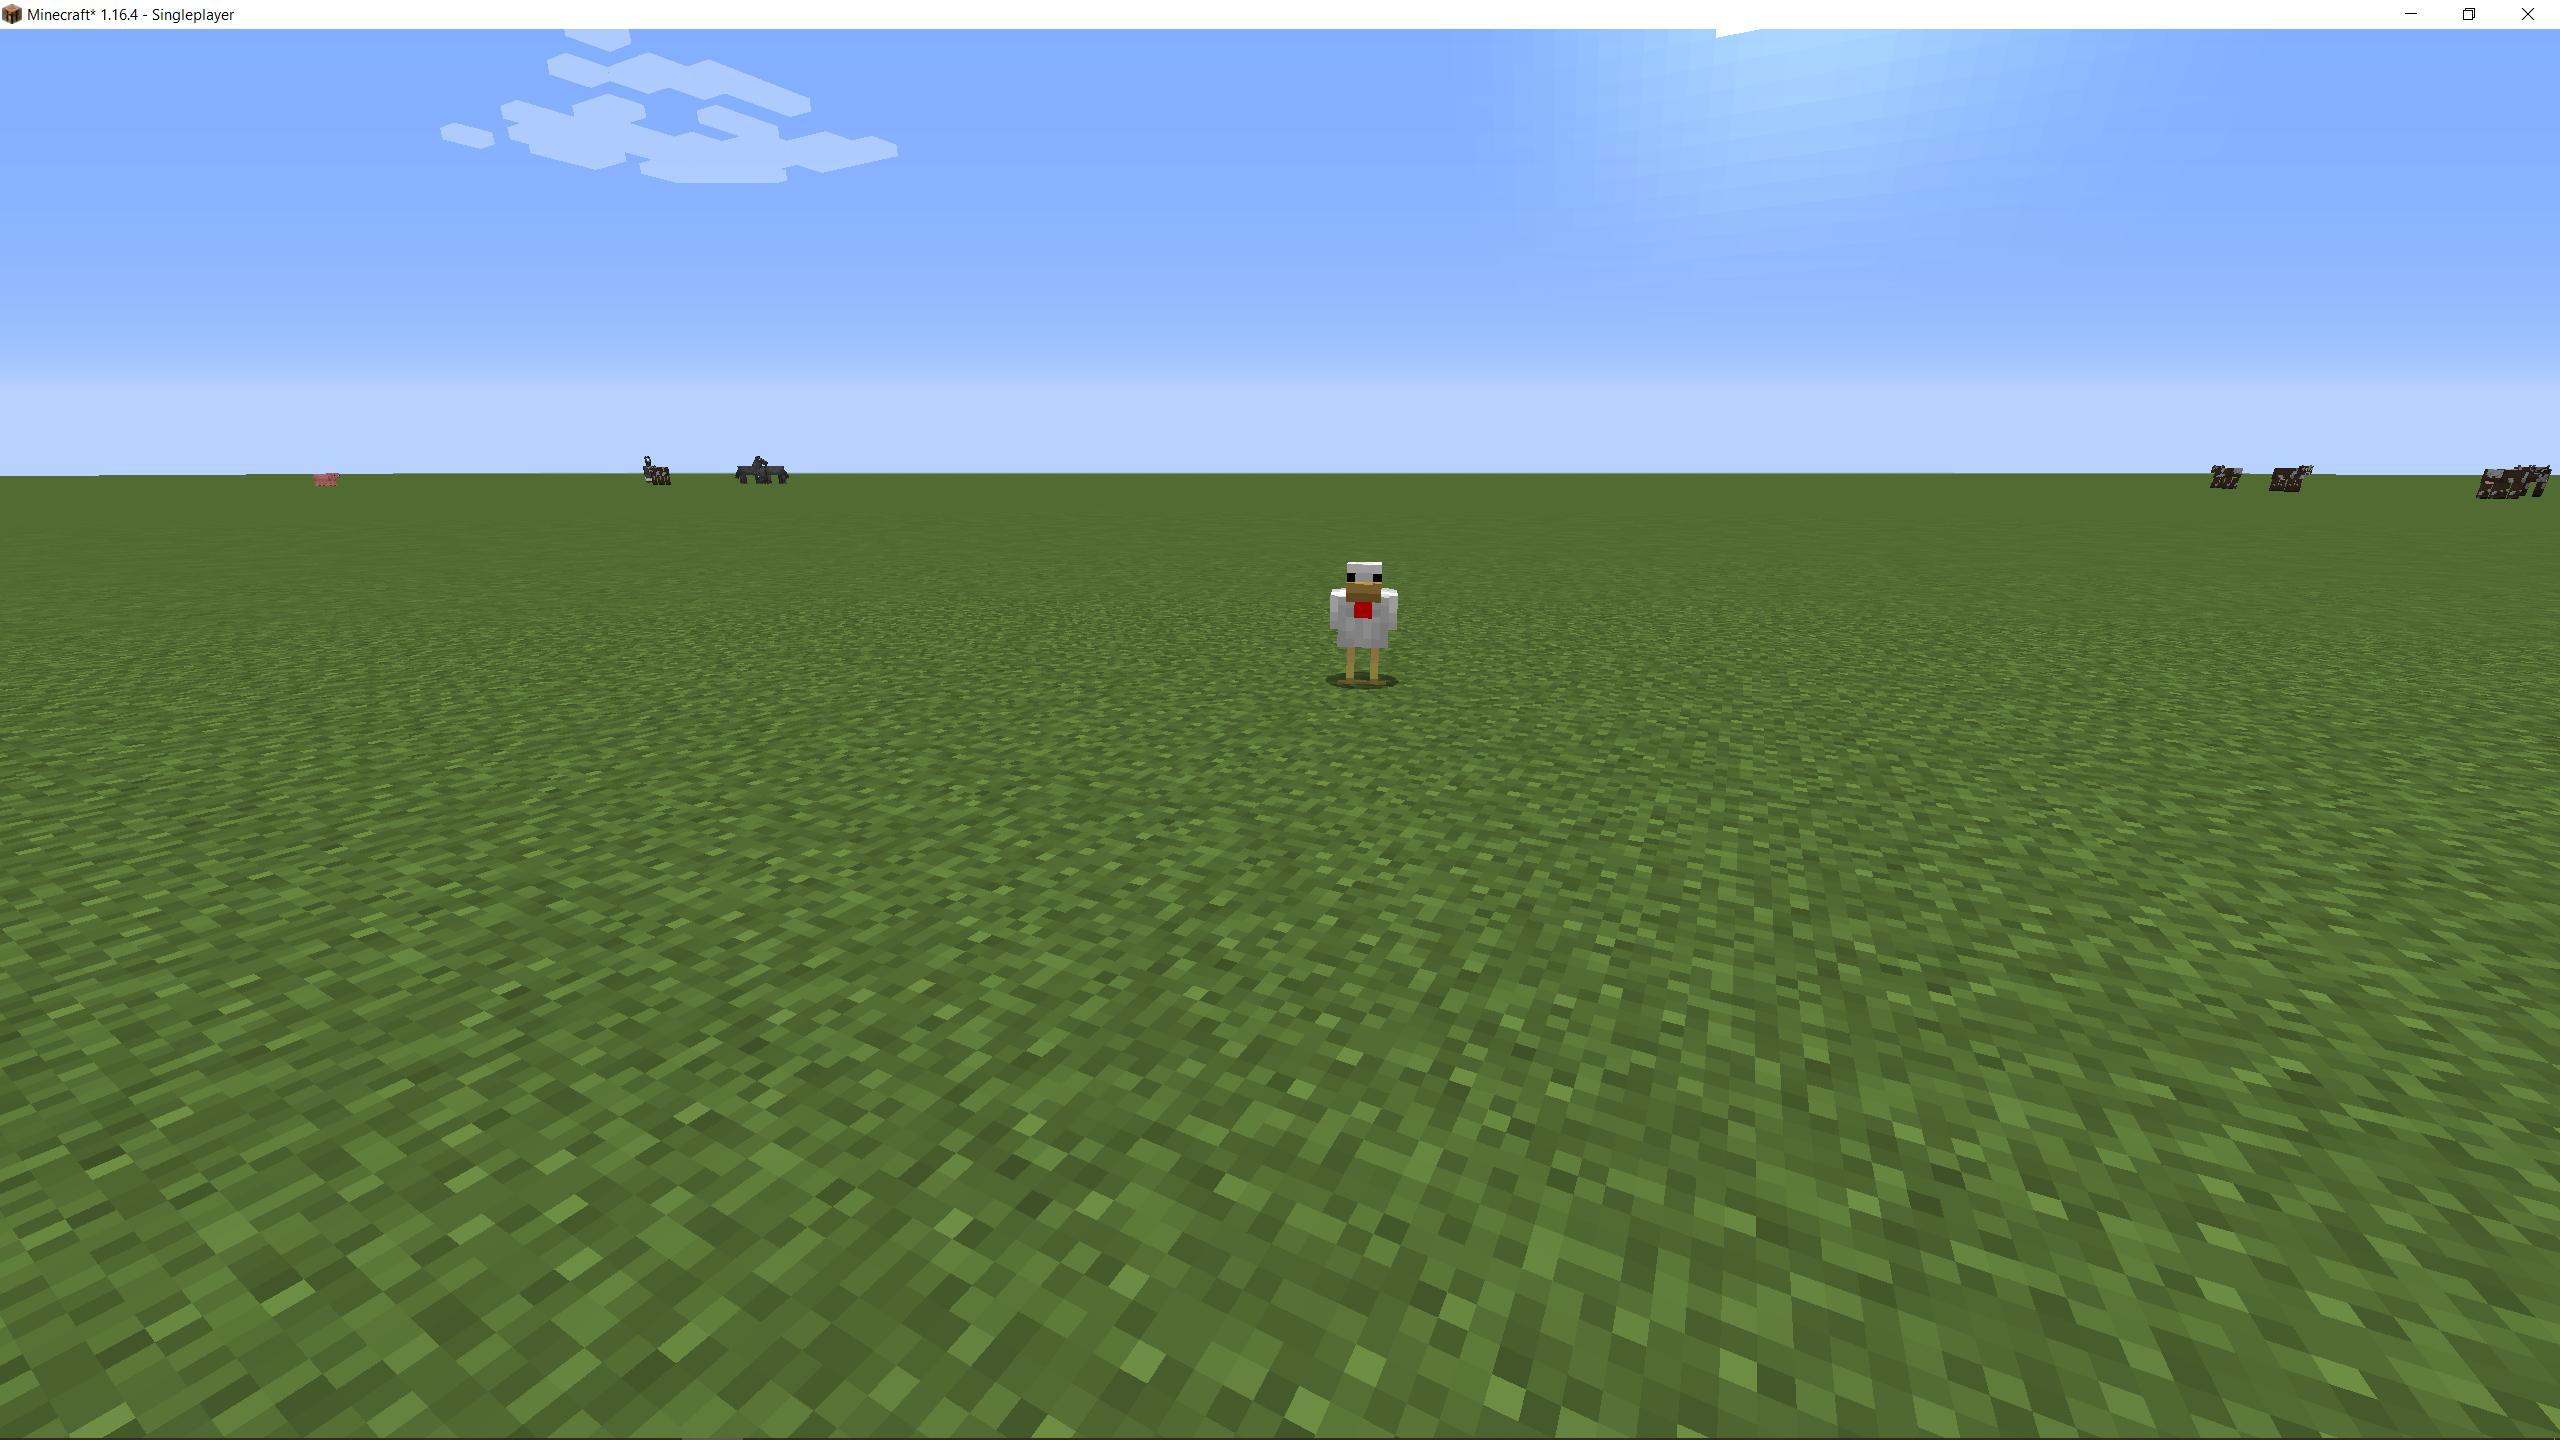chicken: (1326, 556, 1407, 689)
